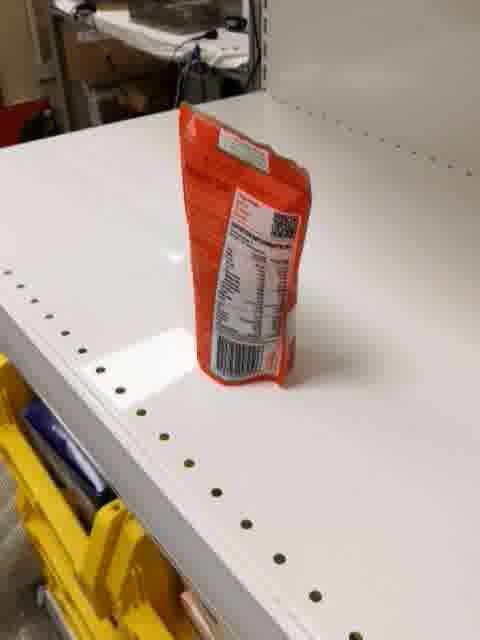whitechia: (167, 100, 314, 389)
